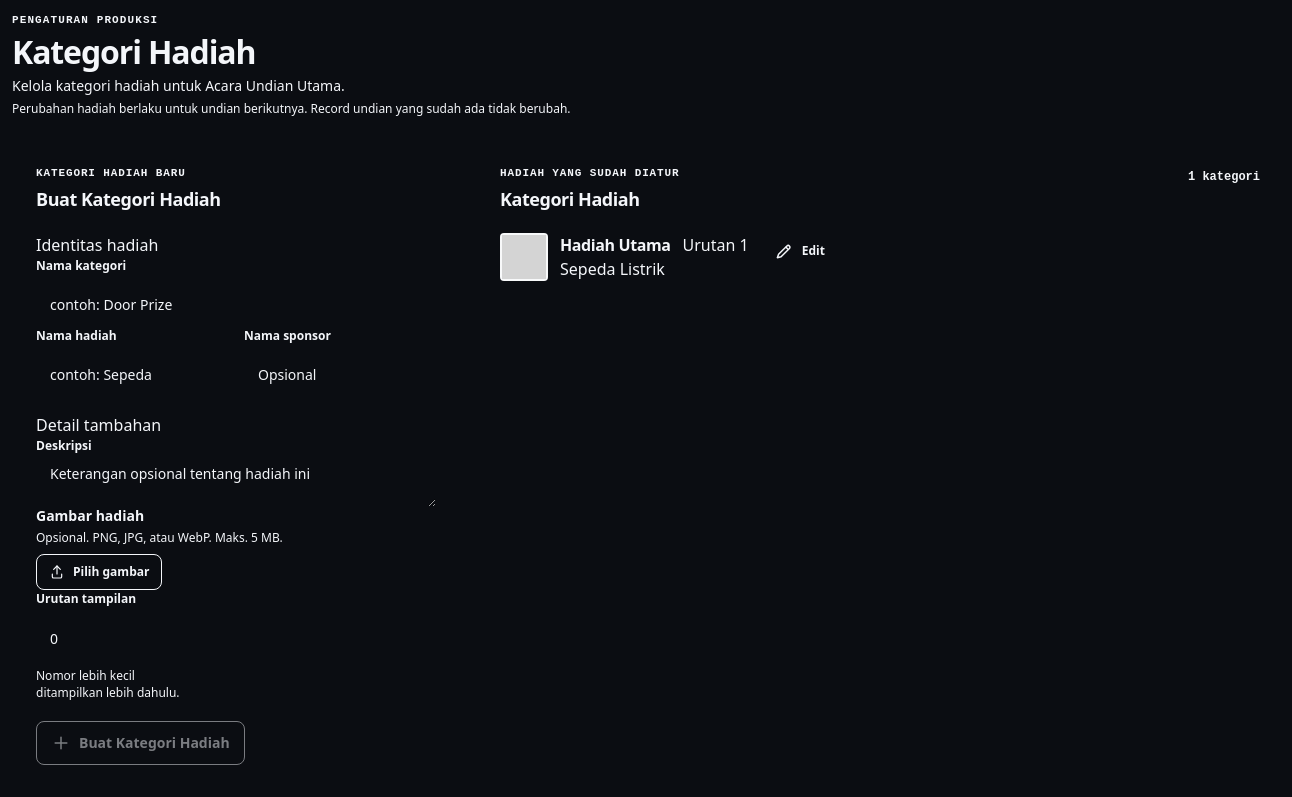
it: PrizeCategoriesPage image upload foundation › 5. preserves and renders existing image after reload when entering edit mode
Check: the text "Sepeda Listrik" is shown, box [560, 257, 670, 281]
Click the button "Edit" at (799, 251), box [761, 233, 838, 269]
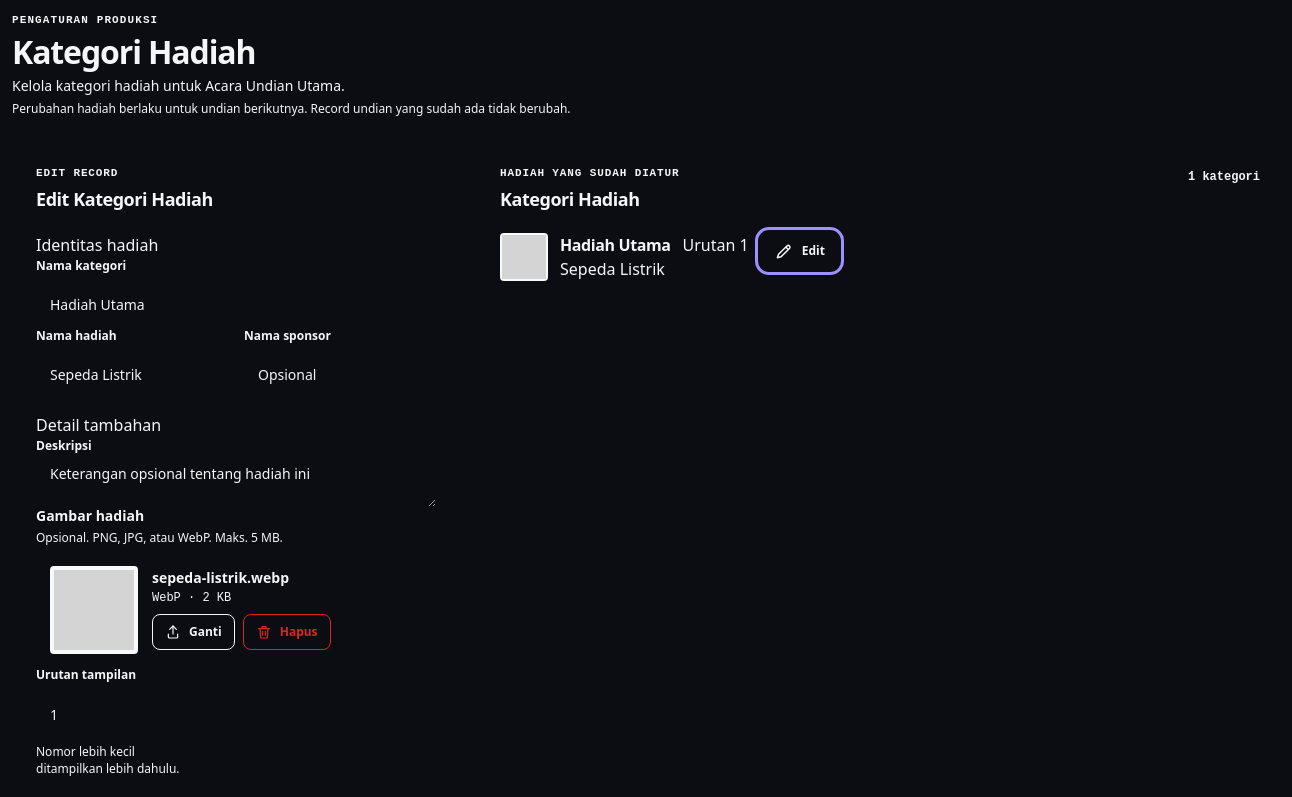
Check: the text "sepeda-listrik.webp" is shown, box [152, 569, 289, 587]
